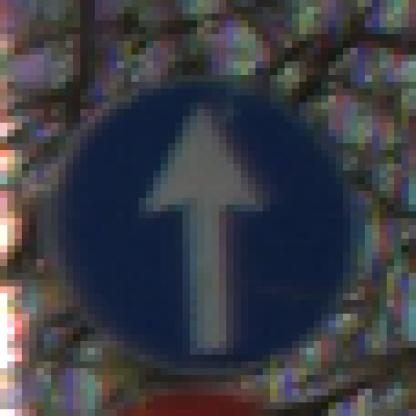AheadOnly: (45, 42, 380, 383)
